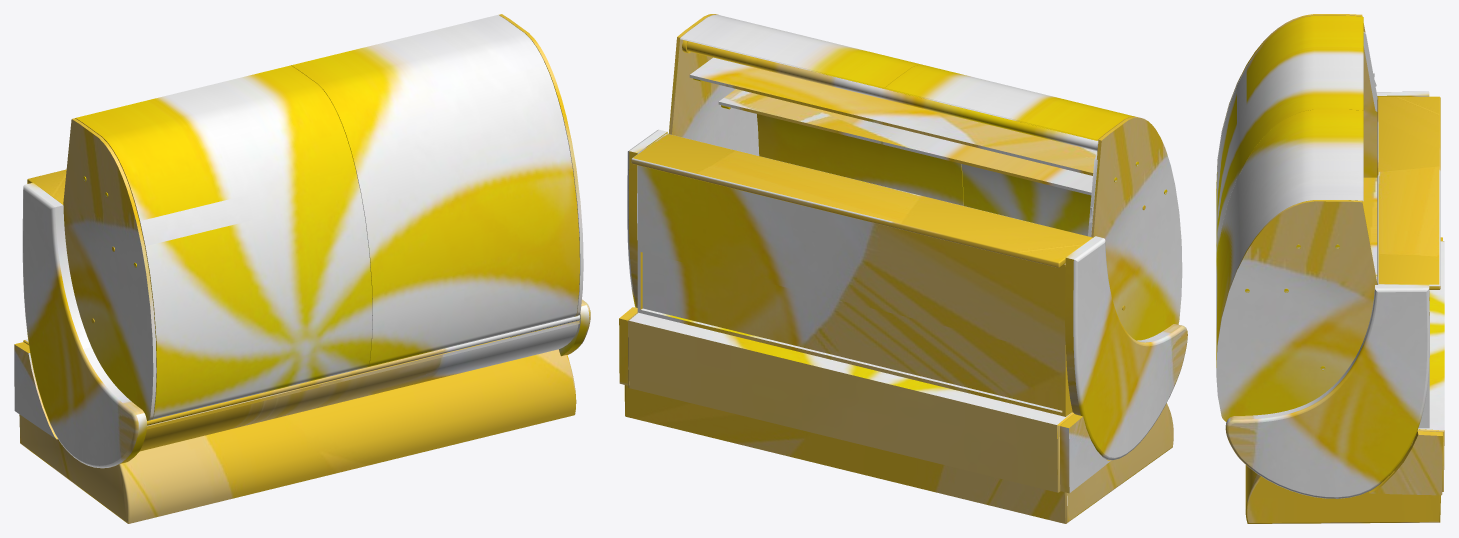
The model's file is Cake-Display.fbx.
The picture shows the model from 3 angles, left to right: view 1: azimuth 30°, elevation 25°; view 2: azimuth 150°, elevation 25°; view 3: azimuth 270°, elevation 25°; orthographic projection. The views are drawn at different scales.
Visible parts, largest first — view 1: LH_front, RH_front, base, LH_side, lh_end, base_1, roll_front, RH_side, counter, rh_end; view 2: fridge_back, base_1, counter, base, RH_front, lh_end, LH_side, LH_front, top_shelf, mid_shelf, RH_side, light (+1 smaller); view 3: RH_side, rh_end, LH_front, RH_front, counter, base, base_1, LH_side, biottom_shelf, light, fridge_back, lh_end.
Boxes of the visible parts, box(x1,y1,x2,y2) form: LH_front: box(75, 65, 372, 419); RH_front: box(291, 15, 579, 367); base: box(19, 349, 576, 523); LH_side: box(63, 118, 156, 420); lh_end: box(22, 183, 146, 468); base_1: box(14, 320, 579, 451); roll_front: box(147, 315, 579, 425); RH_side: box(499, 14, 583, 316); counter: box(27, 169, 66, 204); rh_end: box(510, 299, 590, 356); fridge_back: box(637, 165, 1072, 416); base_1: box(619, 307, 1110, 493); counter: box(631, 133, 1092, 267); base: box(624, 385, 1173, 523); RH_front: box(680, 15, 963, 205); lh_end: box(1065, 236, 1187, 460); LH_side: box(1091, 117, 1182, 340); LH_front: box(885, 65, 1135, 236); top_shelf: box(689, 57, 1097, 175); mid_shelf: box(718, 89, 1092, 195); RH_side: box(668, 14, 759, 155); light: box(682, 40, 1098, 236); RH_side: box(1216, 200, 1377, 421); rh_end: box(1225, 284, 1429, 498); LH_front: box(1216, 15, 1363, 282); RH_front: box(1216, 109, 1363, 367); counter: box(1377, 96, 1440, 289); base: box(1245, 465, 1440, 523); base_1: box(1369, 237, 1444, 495); LH_side: box(1216, 14, 1377, 188); biottom_shelf: box(1362, 177, 1377, 282); light: box(1363, 32, 1377, 111); fridge_back: box(1418, 290, 1429, 428); lh_end: box(1376, 91, 1429, 96).
Size of the model in its own units: 820 by 614 by 398.
